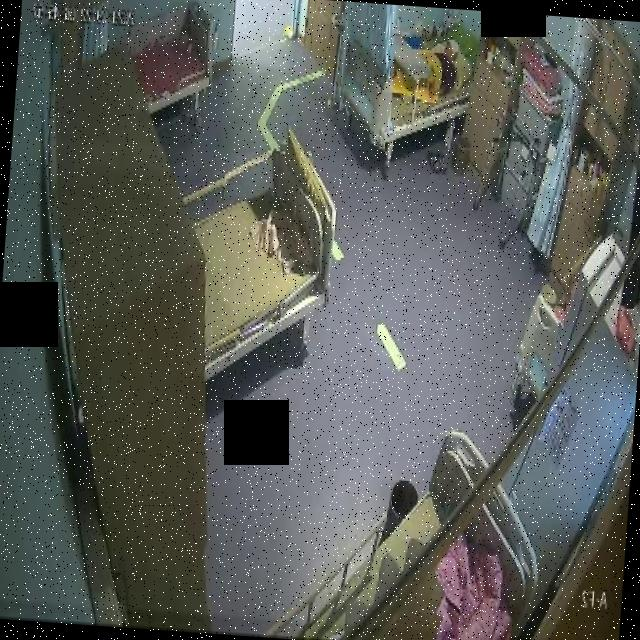bed: (294, 419, 549, 640), (202, 138, 343, 392), (334, 37, 469, 182), (145, 0, 220, 131)
